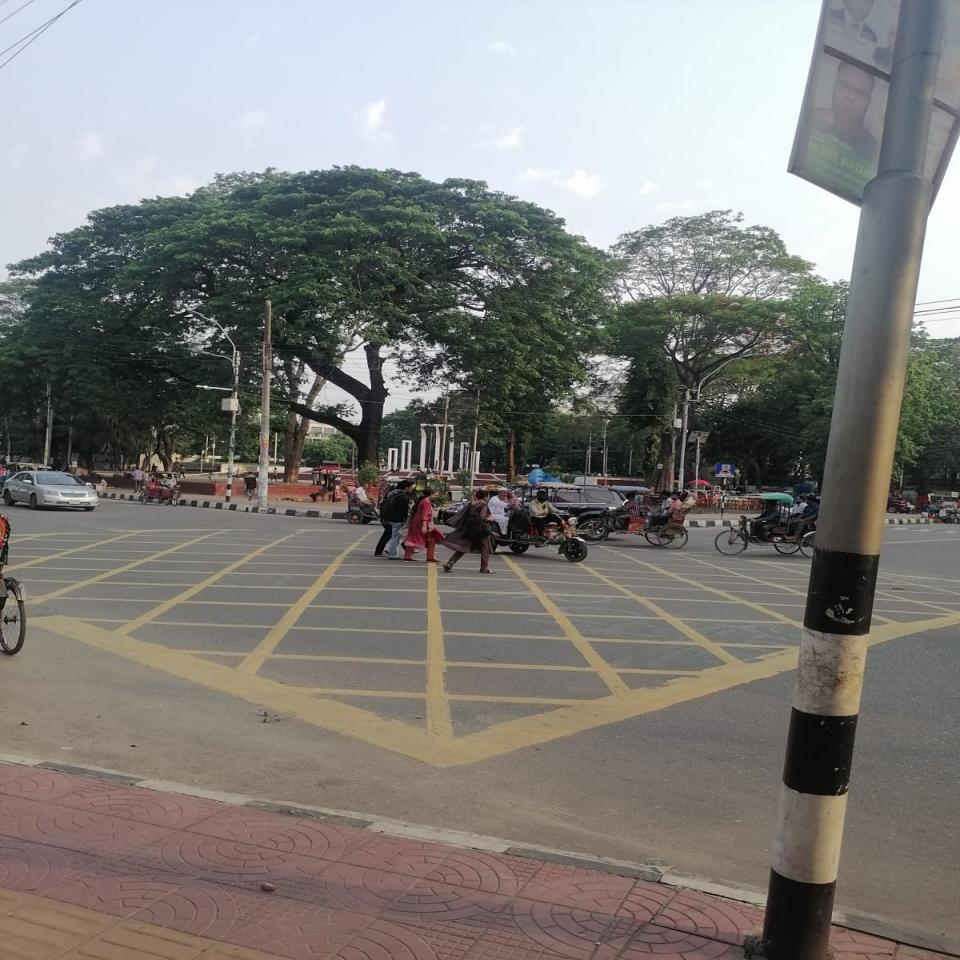person: (443, 490, 494, 574), (402, 487, 444, 563), (376, 479, 414, 560)
